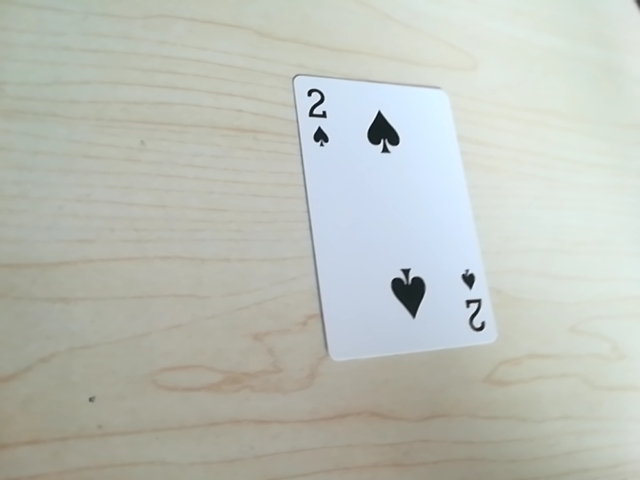ht 2: (294, 73, 335, 156), (454, 260, 488, 344)
